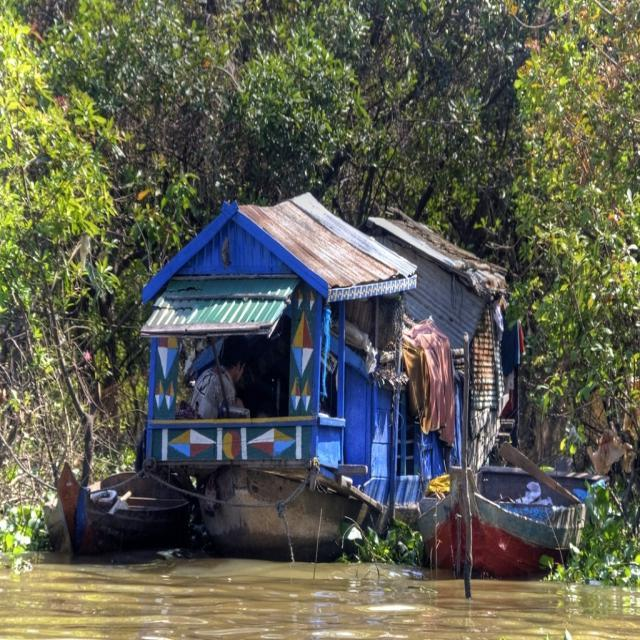Hyacinth: (560, 498, 640, 590), (364, 519, 434, 566)
boat: (412, 456, 614, 588)
